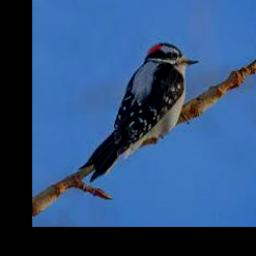Woodpecker: (80, 43, 199, 181)
